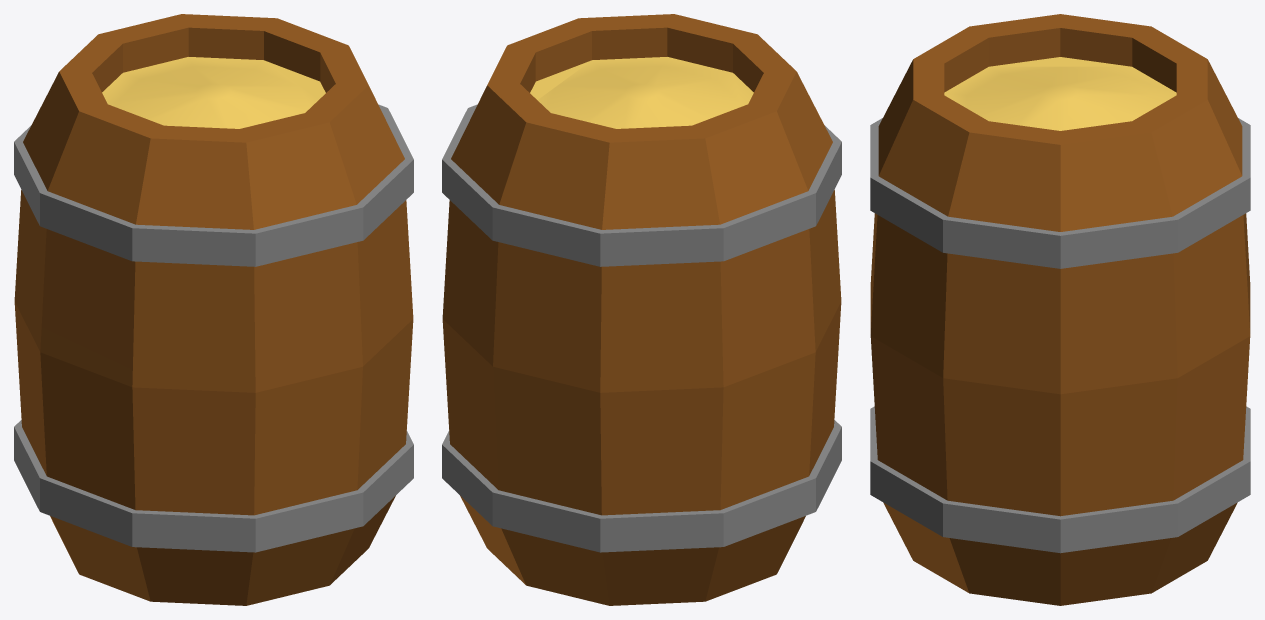
File: Prop_Barrel_Grain_01.fbx
3 views of the same model, side by side, from view 1: azimuth 30°, elevation 25°; view 2: azimuth 150°, elevation 25°; view 3: azimuth 270°, elevation 25° (orthographic).
Visible parts, largest first — view 1: Prop_Barrel_Grain_01; view 2: Prop_Barrel_Grain_01; view 3: Prop_Barrel_Grain_01.
Part boxes in pixels (bbox=[...]): Prop_Barrel_Grain_01: bbox=[14, 14, 413, 605]; Prop_Barrel_Grain_01: bbox=[442, 14, 841, 605]; Prop_Barrel_Grain_01: bbox=[870, 14, 1250, 605].
Size of the model in its own units: 739 by 940 by 703.
